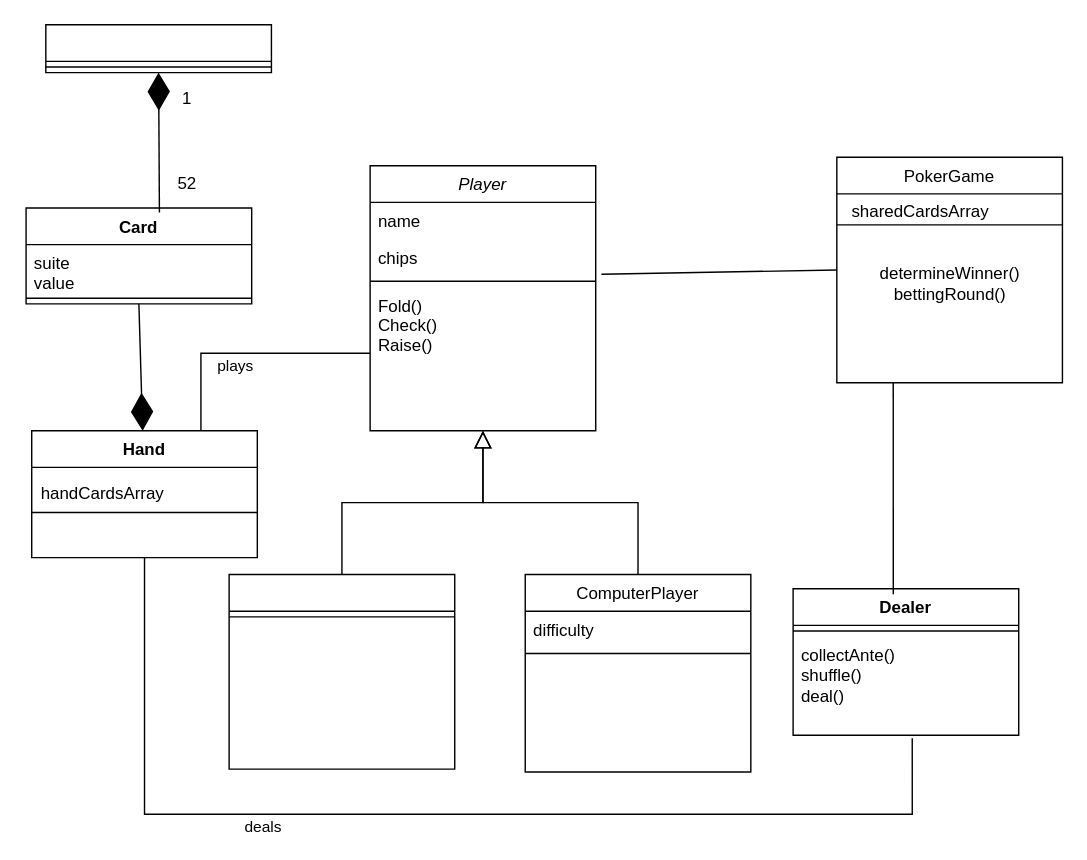
This 1087x860 diagram has some shape labels left out. The shapes that lost their labels are listed below. From the top down, each one's centre as x and y in pixels, then its label:
At point 157,48: "Deck".
At point 341,671: "HumanPlayer".
